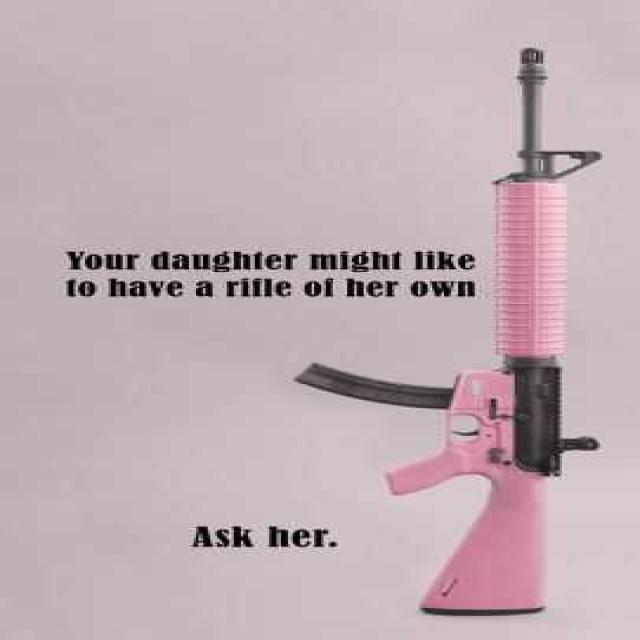heavyweapon: (261, 29, 610, 640)
